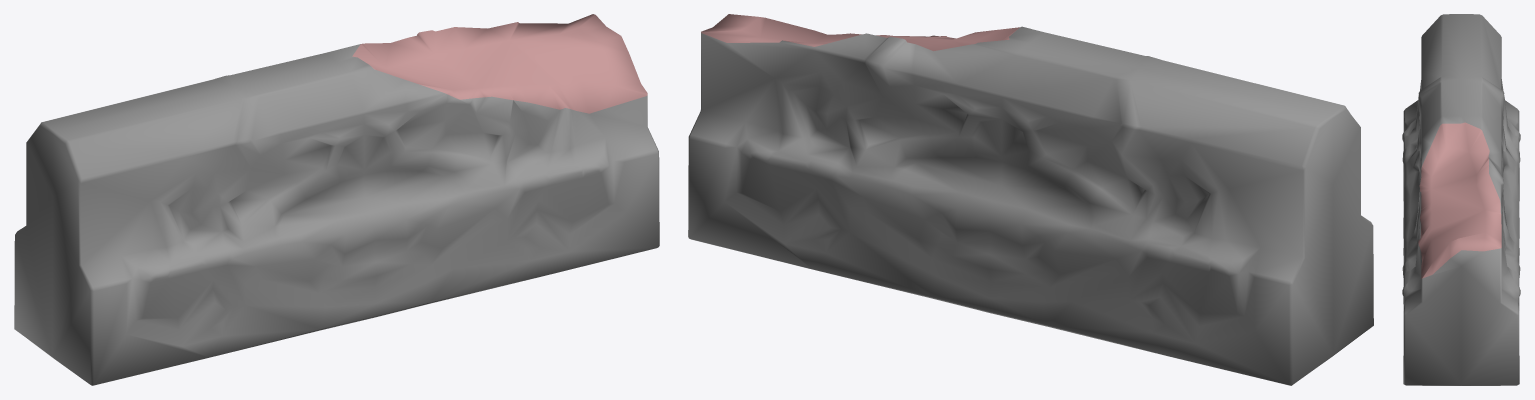
The model's file is RuineBroken9.FBX.
3 renders of one model, left to right at view 1: azimuth 30°, elevation 25°; view 2: azimuth 150°, elevation 25°; view 3: azimuth 270°, elevation 25°, orthographic. The views are drawn at different scales.
Visible parts, largest first — view 1: Object001; view 2: Object001; view 3: Object001.
Boxes of the visible parts, x1=… form: Object001: x1=14, y1=14, x2=659, y2=385; Object001: x1=688, y1=14, x2=1373, y2=385; Object001: x1=1402, y1=14, x2=1520, y2=385.
Bounding box in the file's own units: 400 × 153 × 97.34.
